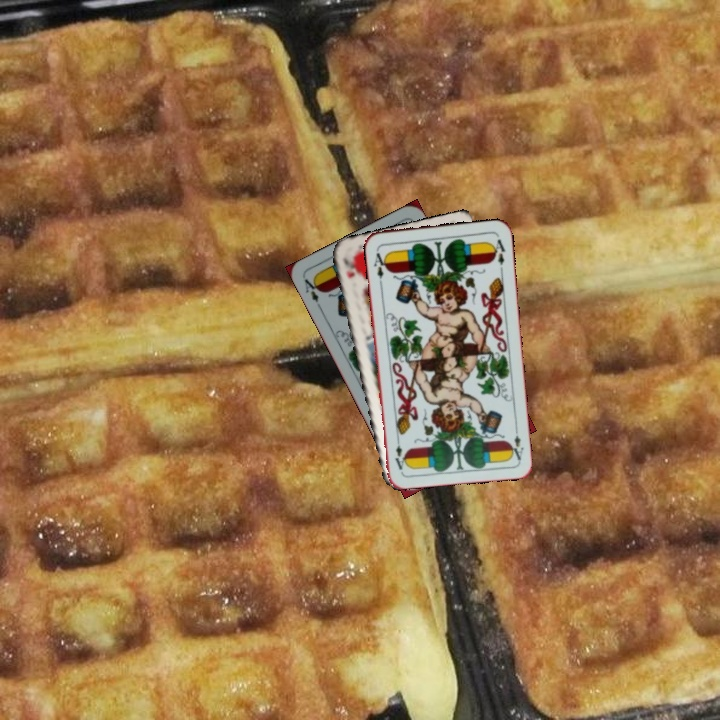EA: (300, 273, 324, 311), (370, 245, 390, 286), (506, 422, 526, 463)
HK: (338, 256, 358, 281)
